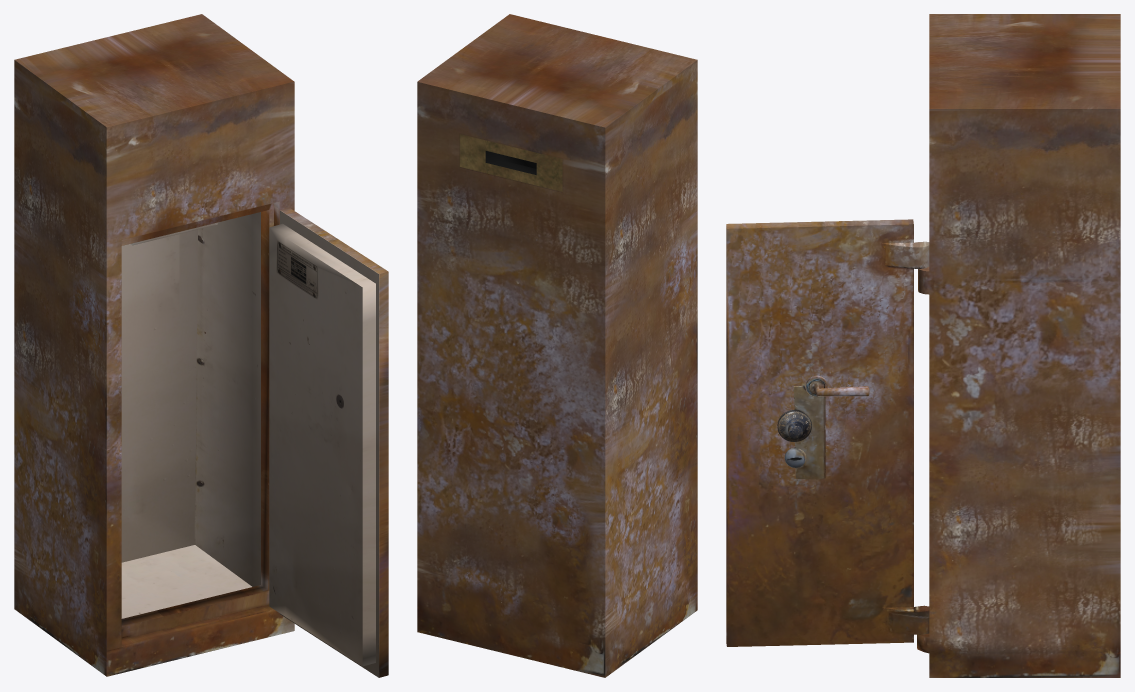
Rendered from safe.fbx.
3 views of the same model, side by side, from view 1: azimuth 30°, elevation 25°; view 2: azimuth 150°, elevation 25°; view 3: azimuth 270°, elevation 25° (orthographic). The views are drawn at different scales.
Visible parts, largest first — view 1: body, Door; view 2: body; view 3: body, Door, lockModul, Handle.
Boxes of the visible parts, <box> form: body: <box>14,14,294,676</box>; Door: <box>269,207,388,677</box>; body: <box>417,14,697,677</box>; body: <box>917,14,1120,677</box>; Door: <box>726,219,929,646</box>; lockModul: <box>777,410,811,441</box>; Handle: <box>809,380,869,396</box>.
Size of the model in its own units: 480 by 1283 by 806.
